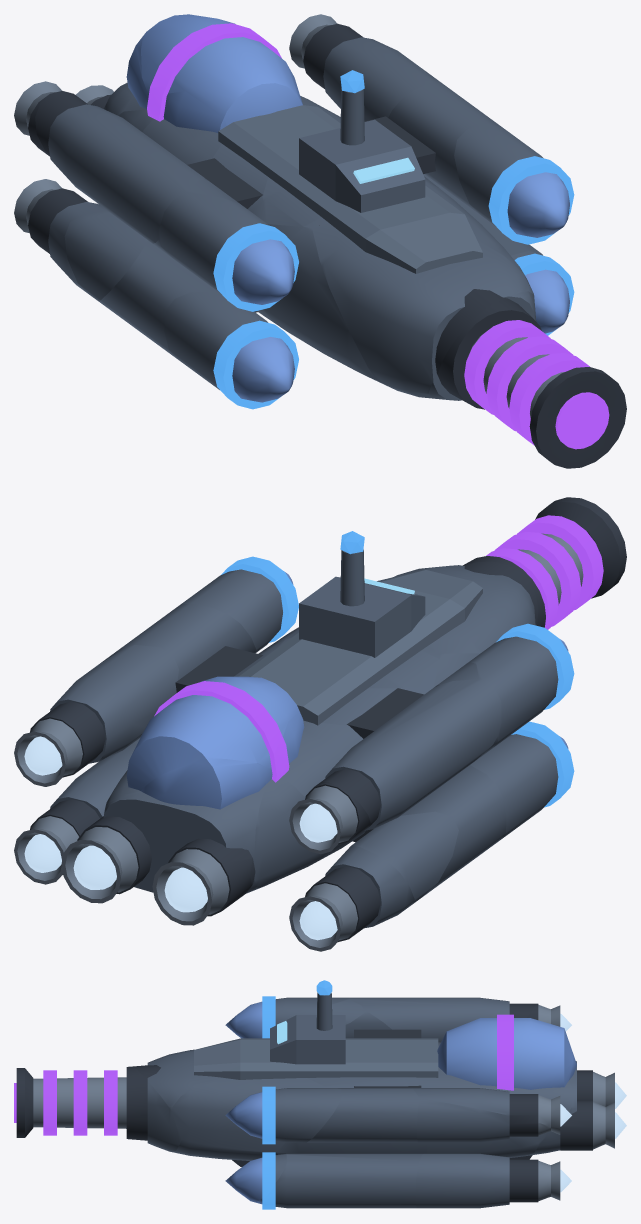
File: plasma_frigate_wreck.glb
3 views of the same model, one above another, from view 1: azimuth 30°, elevation 25°; view 2: azimuth 150°, elevation 25°; view 3: azimuth 270°, elevation 25° (orthographic). The views are drawn at different scales.
Visible parts, largest first — view 1: plasma_frigate_wreck_04, plasma_frigate_wreck_07, plasma_frigate_wreck_12, plasma_frigate_wreck_03, plasma_frigate_wreck_02, plasma_frigate_wreck_06, plasma_frigate_wreck_00, plasma_frigate_wreck_08, plasma_frigate_wreck_09, plasma_frigate_wreck_01, plasma_frigate_wreck_11; view 2: plasma_frigate_wreck_03, plasma_frigate_wreck_12, plasma_frigate_wreck_11, plasma_frigate_wreck_06, plasma_frigate_wreck_01, plasma_frigate_wreck_04, plasma_frigate_wreck_02, plasma_frigate_wreck_07, plasma_frigate_wreck_08, plasma_frigate_wreck_05, plasma_frigate_wreck_09, plasma_frigate_wreck_00; view 3: plasma_frigate_wreck_09, plasma_frigate_wreck_03, plasma_frigate_wreck_00, plasma_frigate_wreck_05, plasma_frigate_wreck_02, plasma_frigate_wreck_06, plasma_frigate_wreck_12, plasma_frigate_wreck_11, plasma_frigate_wreck_07, plasma_frigate_wreck_04, plasma_frigate_wreck_08, plasma_frigate_wreck_10 (+1 smaller).
Part boxes in pixels (x1=…): plasma_frigate_wreck_04: x1=159, y1=191, x2=376, y2=409; plasma_frigate_wreck_07: x1=312, y1=188, x2=533, y2=398; plasma_frigate_wreck_12: x1=35, y1=86, x2=236, y2=300; plasma_frigate_wreck_03: x1=141, y1=14, x2=434, y2=125; plasma_frigate_wreck_02: x1=428, y1=291, x2=626, y2=468; plasma_frigate_wreck_06: x1=189, y1=70, x2=425, y2=228; plasma_frigate_wreck_00: x1=420, y1=124, x2=574, y2=333; plasma_frigate_wreck_08: x1=98, y1=123, x2=277, y2=359; plasma_frigate_wreck_09: x1=379, y1=82, x2=571, y2=335; plasma_frigate_wreck_01: x1=14, y1=81, x2=153, y2=294; plasma_frigate_wreck_11: x1=76, y1=37, x2=148, y2=115; plasma_frigate_wreck_03: x1=14, y1=645, x2=303, y2=808; plasma_frigate_wreck_12: x1=273, y1=679, x2=501, y2=904; plasma_frigate_wreck_11: x1=61, y1=758, x2=266, y2=925; plasma_frigate_wreck_06: x1=243, y1=531, x2=478, y2=688; plasma_frigate_wreck_01: x1=250, y1=763, x2=414, y2=951; plasma_frigate_wreck_04: x1=433, y1=623, x2=574, y2=838; plasma_frigate_wreck_02: x1=463, y1=497, x2=626, y2=629; plasma_frigate_wreck_07: x1=378, y1=561, x2=538, y2=654; plasma_frigate_wreck_08: x1=289, y1=684, x2=506, y2=897; plasma_frigate_wreck_05: x1=14, y1=647, x2=142, y2=884; plasma_frigate_wreck_09: x1=122, y1=603, x2=285, y2=743; plasma_frigate_wreck_00: x1=181, y1=556, x2=379, y2=653; plasma_frigate_wreck_09: x1=256, y1=1077, x2=427, y2=1209; plasma_frigate_wreck_03: x1=403, y1=1014, x2=574, y2=1142; plasma_frigate_wreck_00: x1=171, y1=1050, x2=341, y2=1202; plasma_frigate_wreck_05: x1=415, y1=1099, x2=571, y2=1208; plasma_frigate_wreck_02: x1=14, y1=1066, x2=181, y2=1152; plasma_frigate_wreck_06: x1=270, y1=980, x2=417, y2=1086; plasma_frigate_wreck_12: x1=349, y1=997, x2=536, y2=1046; plasma_frigate_wreck_11: x1=509, y1=1049, x2=626, y2=1159; plasma_frigate_wreck_07: x1=133, y1=1027, x2=272, y2=1110; plasma_frigate_wreck_04: x1=225, y1=996, x2=349, y2=1038; plasma_frigate_wreck_08: x1=345, y1=1010, x2=438, y2=1049; plasma_frigate_wreck_10: x1=173, y1=1139, x2=277, y2=1166.
Bounding box in the file's own units: 3.24 × 2.41 × 7.28.
